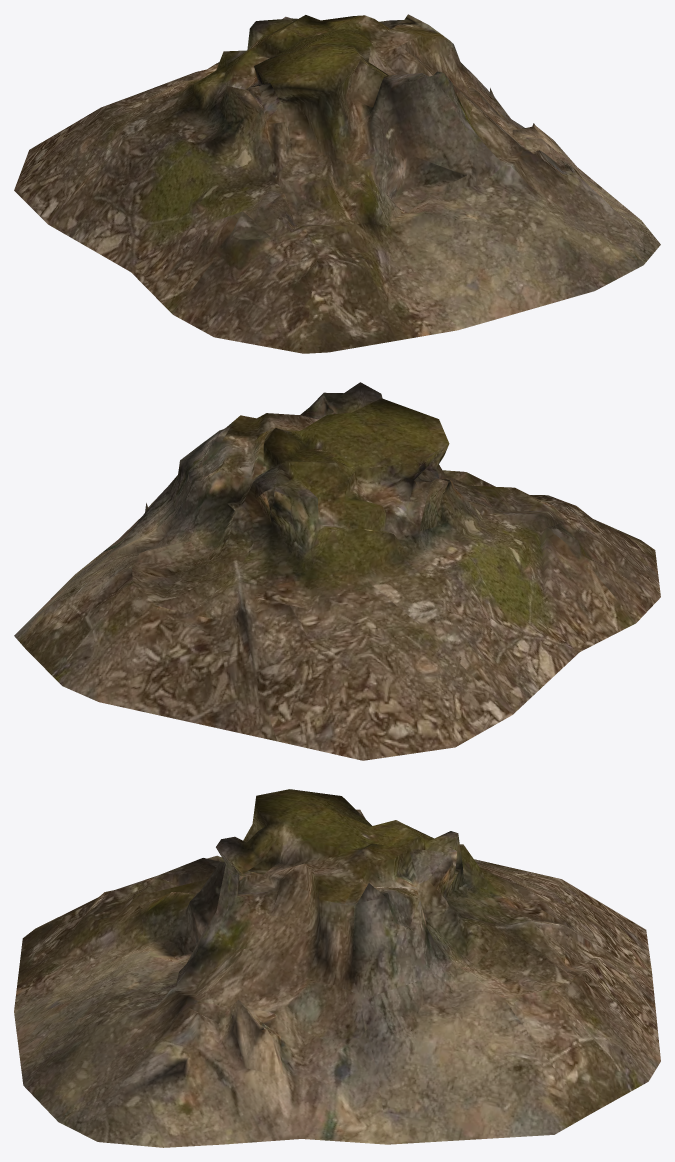
Rendered from stump.glb.
3 views of the same model, one above another, from view 1: azimuth 30°, elevation 25°; view 2: azimuth 150°, elevation 25°; view 3: azimuth 270°, elevation 25° (orthographic). The views are drawn at different scales.
Parts seen in each view (by area): view 1: tree_stump_01; view 2: tree_stump_01; view 3: tree_stump_01.
Boxes of the visible parts, x1=… form: tree_stump_01: x1=14, y1=14, x2=660, y2=353; tree_stump_01: x1=14, y1=382, x2=660, y2=760; tree_stump_01: x1=14, y1=789, x2=660, y2=1147.
Size of the model in its own units: 1.42 by 0.5586 by 1.59.
Materials: 1 (1 with a texture image).
